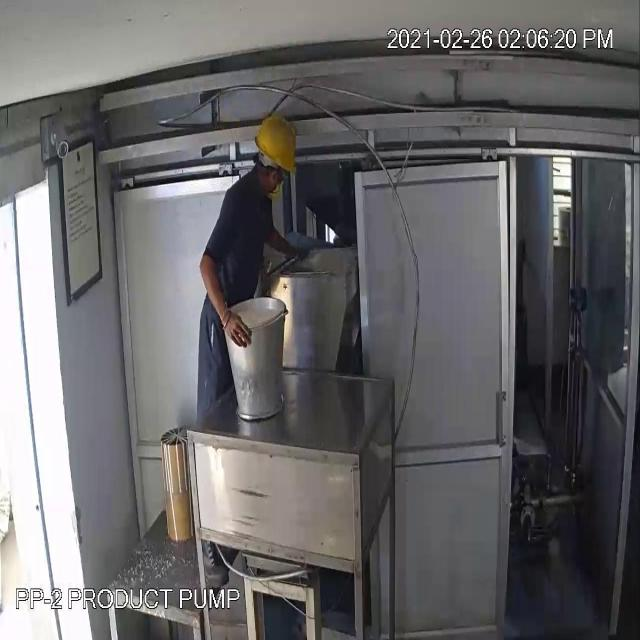helmet: (253, 109, 301, 179)
